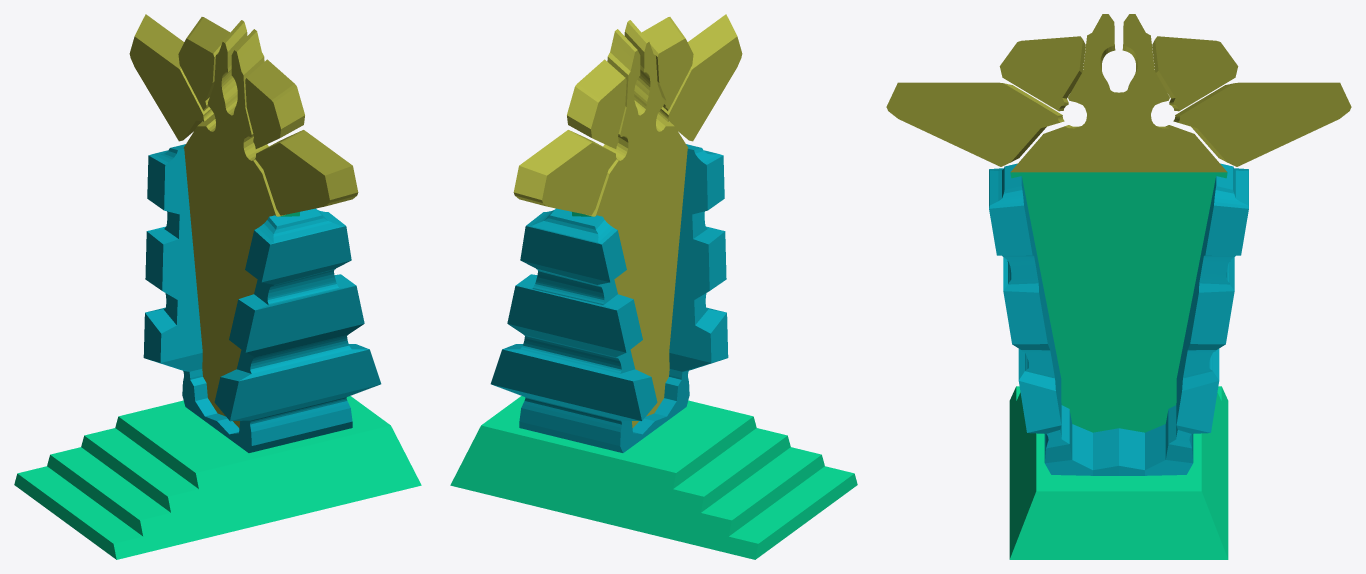
Rendered from NewAssStation.fbx.
3 renders of one model, left to right at view 1: azimuth 30°, elevation 25°; view 2: azimuth 150°, elevation 25°; view 3: azimuth 270°, elevation 25°, orthographic. The views are drawn at different scales.
Parts seen in each view (by area): view 1: Station; view 2: Station; view 3: Station.
Boxes of the visible parts, x1,y1,x2,y2 form: Station: (14,14,421,559); Station: (450,14,857,559); Station: (886,14,1351,559).
Size of the model in its own units: 166 by 235 by 205.
